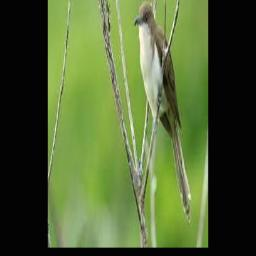Cuckoo: (134, 2, 191, 224)
